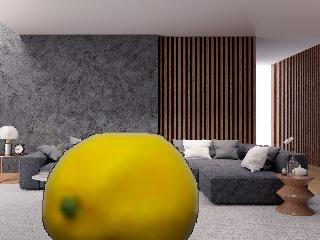lemon: (42, 132, 199, 240)
